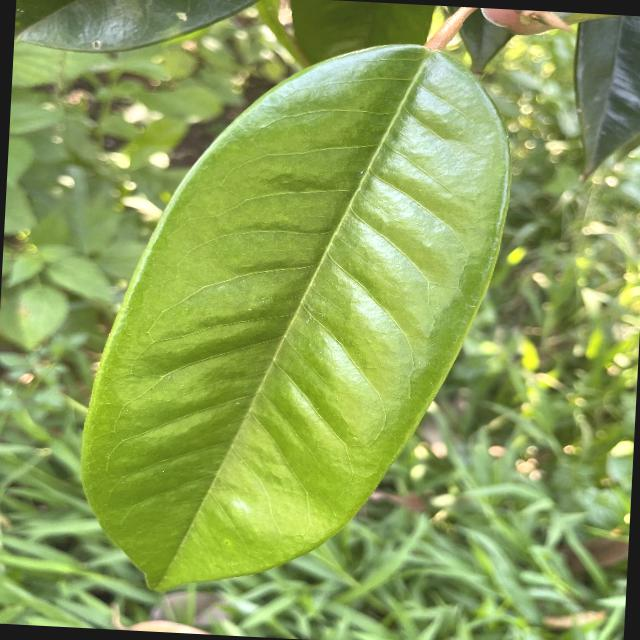No Disease: (64, 16, 526, 614)
